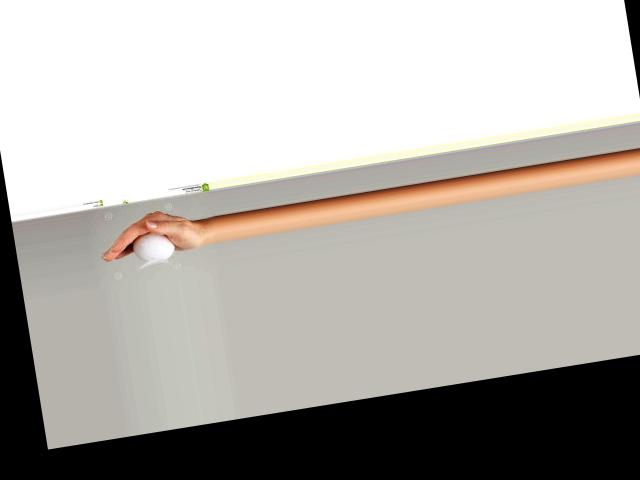egg: (130, 229, 176, 263)
